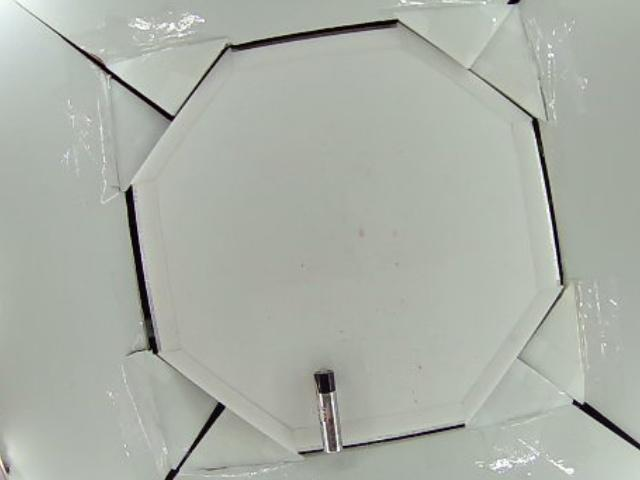Battery: (312, 369, 347, 455)
